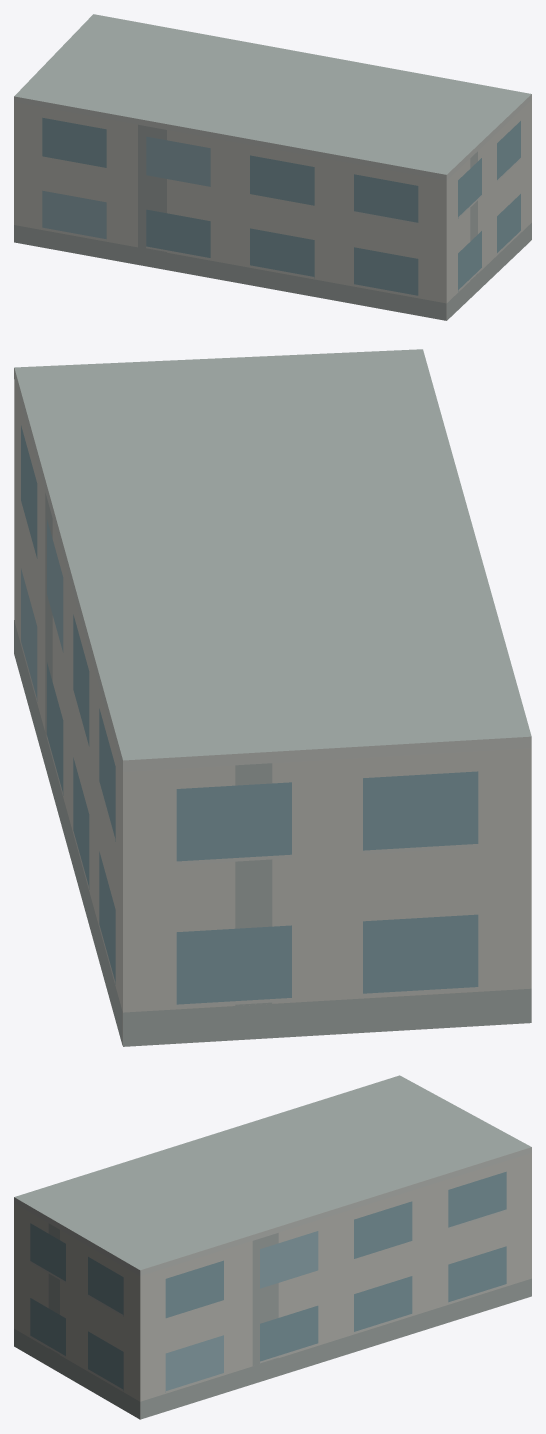
The model's file is survey-upis-32986008.glb.
3 views of the same model, one above another, from view 1: azimuth 30°, elevation 25°; view 2: azimuth 150°, elevation 25°; view 3: azimuth 270°, elevation 25° (orthographic). The views are drawn at different scales.
Parts seen in each view (by area): view 1: survey-upis-32986008.tmp; view 2: survey-upis-32986008.tmp; view 3: survey-upis-32986008.tmp.
Part boxes in pixels (<box>): survey-upis-32986008.tmp: <box>14,14,531,320</box>; survey-upis-32986008.tmp: <box>14,349,531,1046</box>; survey-upis-32986008.tmp: <box>14,1075,531,1419</box>.
Bounding box in the file's own units: 17.1 × 6.1 × 19.18.
